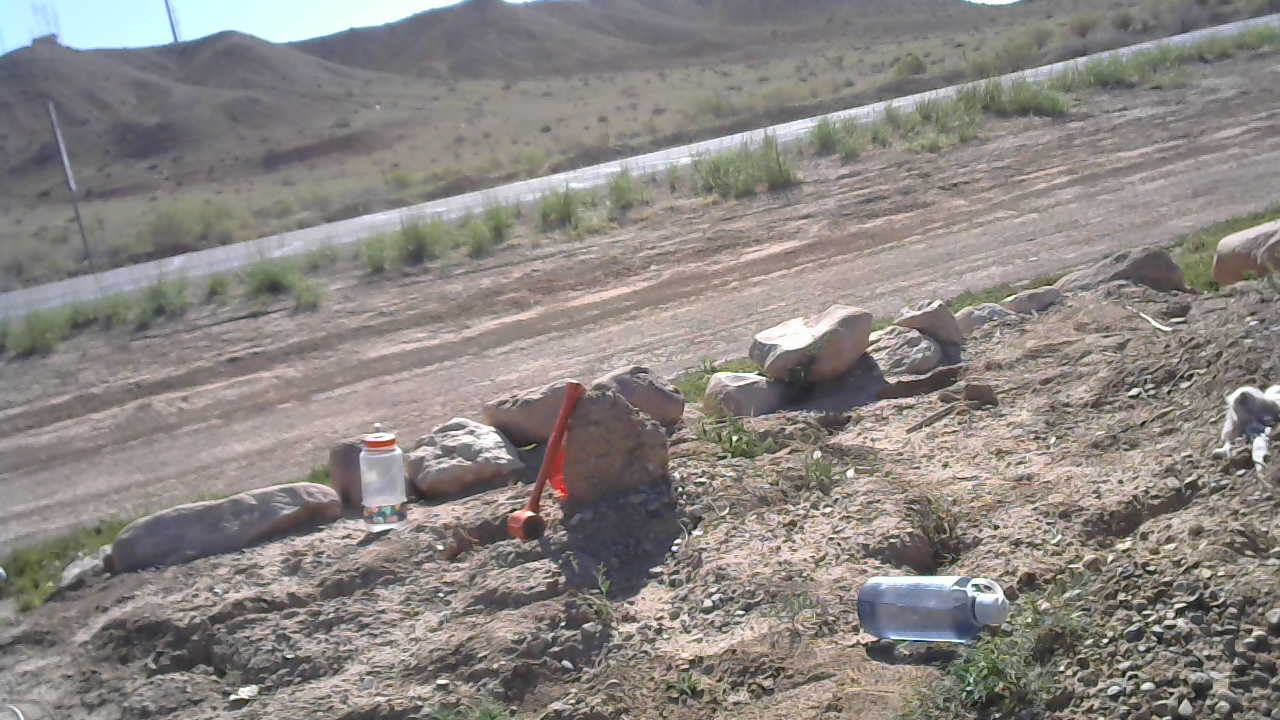bottle: (851, 571, 1012, 645), (356, 417, 410, 529)
hammer: (506, 379, 592, 543)
